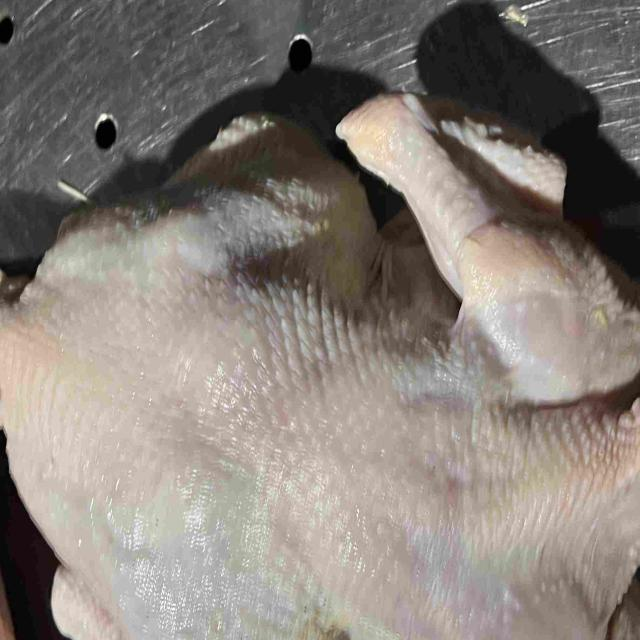back: (0, 258, 581, 618)
leg: (59, 117, 382, 286), (54, 547, 349, 640)
wing: (338, 87, 640, 406)
